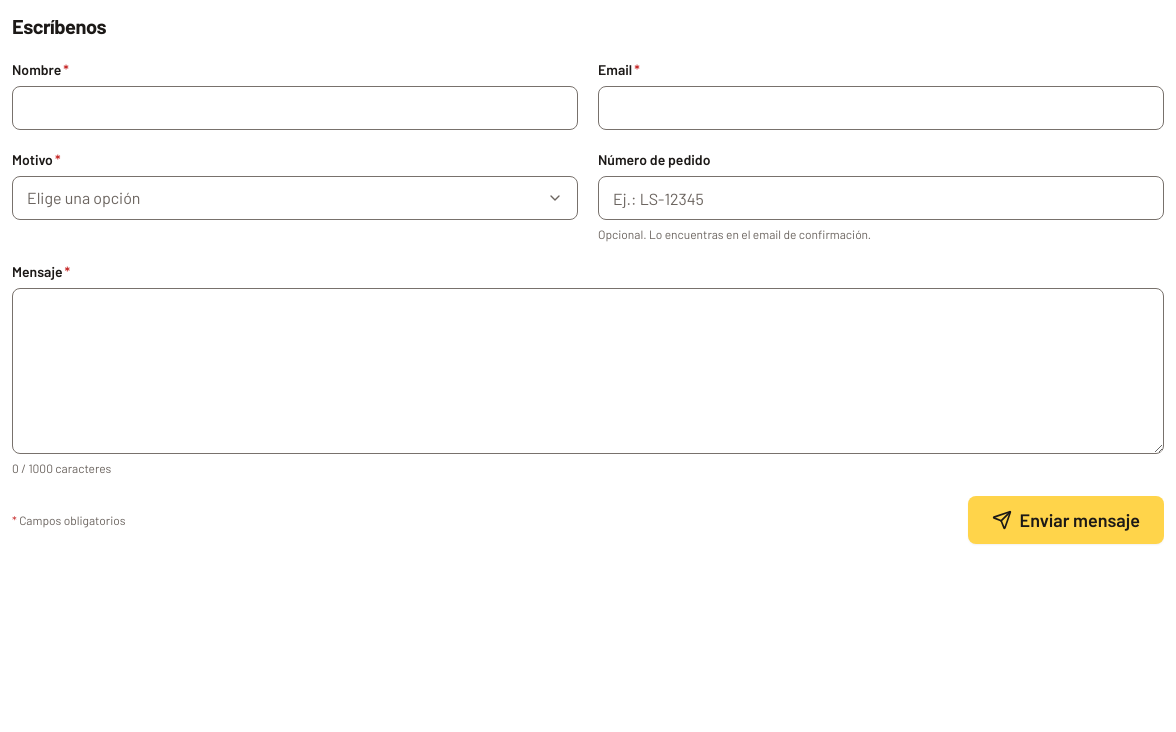
Scenario: ContactForm › validates the optional order number format
Type "#1" into the field labelled "Número de pedido" at (881, 198), box [598,176,1164,220]
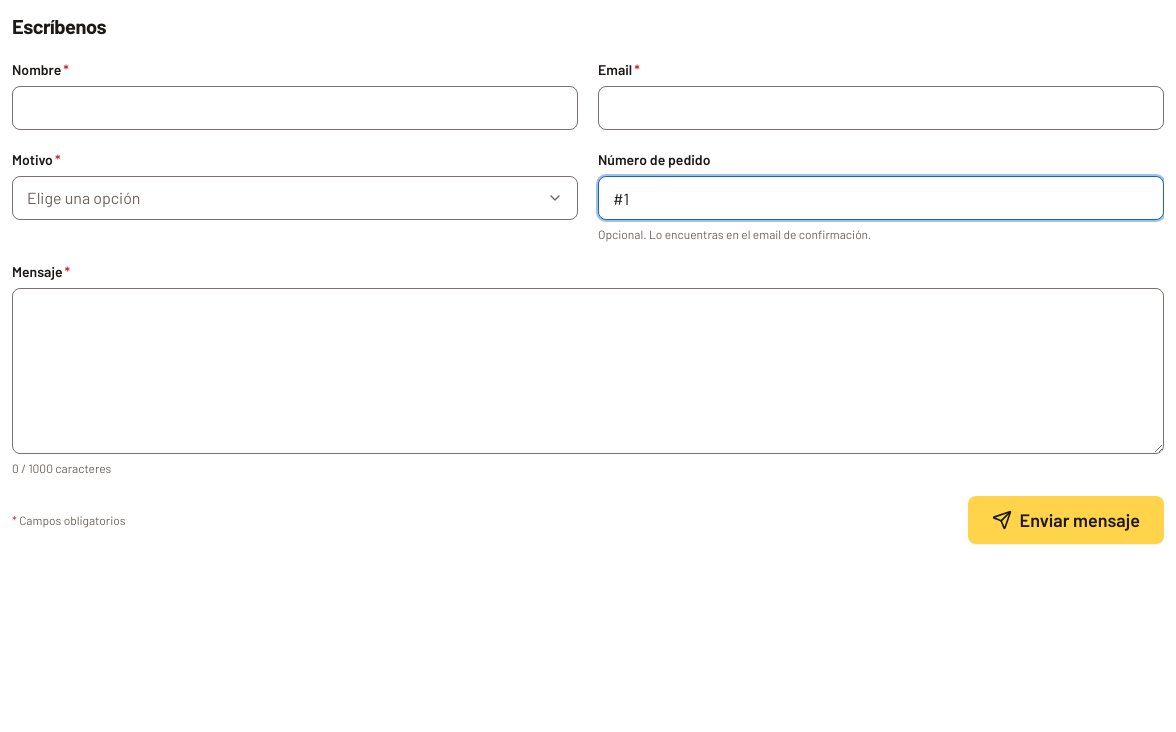
Click the button "Enviar mensaje" at (1066, 520), box [968,496,1164,544]
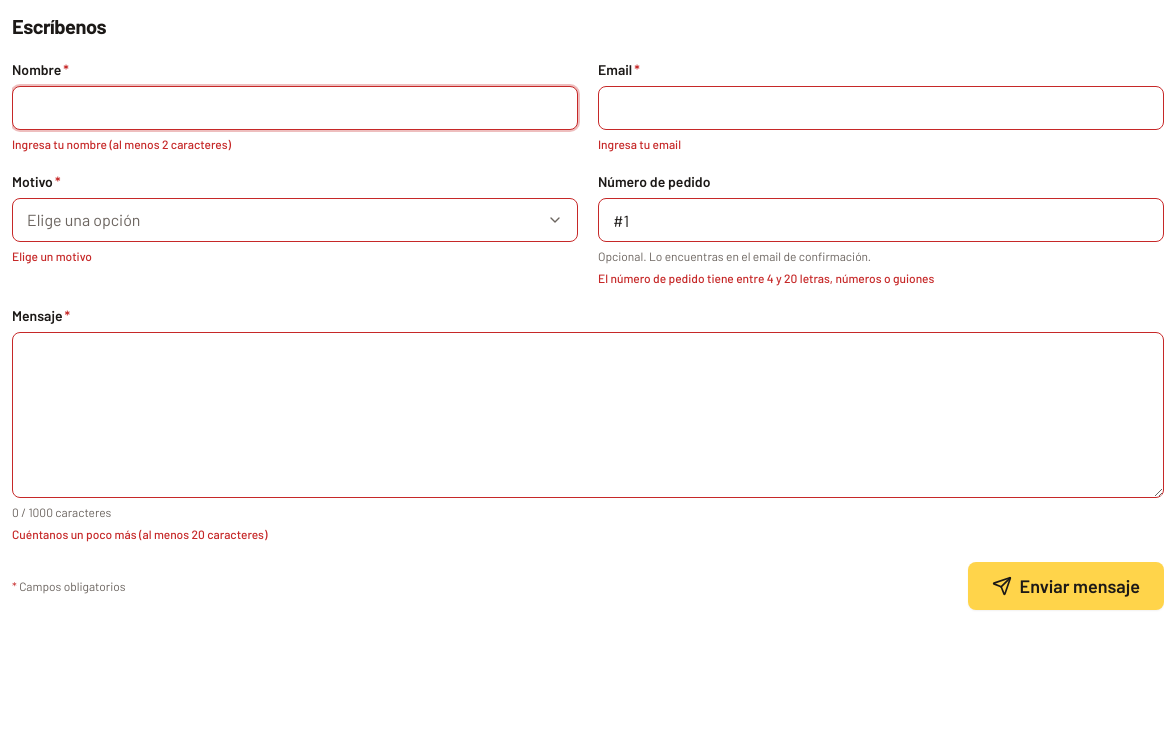
Expected: the text "El número de pedido tiene entre 4 y 20 letras, números o guiones" is shown, [598,271,934,285]
